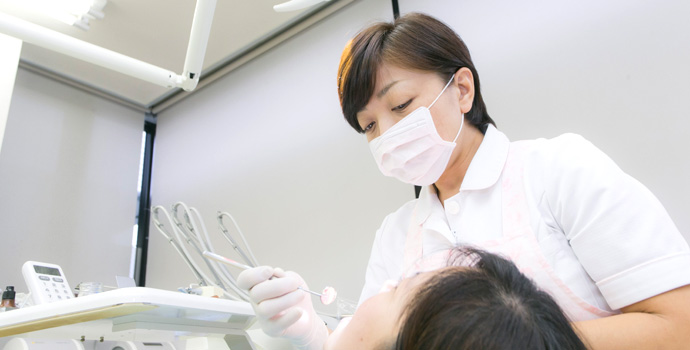mask: (371, 107, 458, 186)
